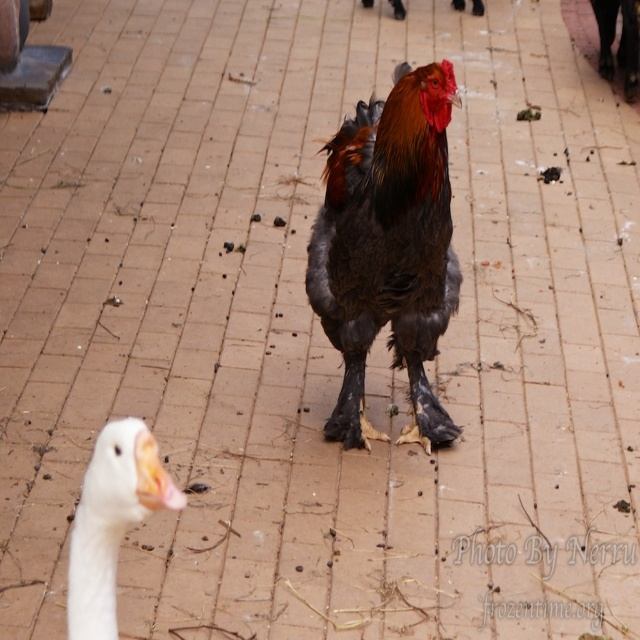Chicken: (304, 55, 462, 446)
